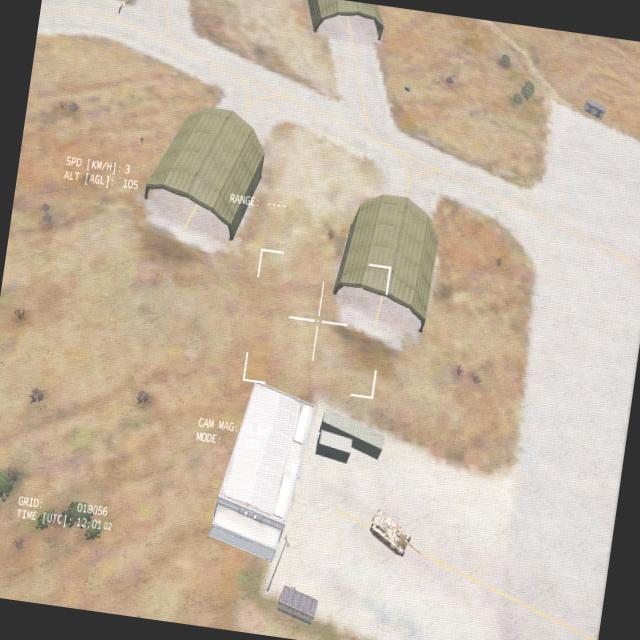tank: (364, 506, 427, 562)
